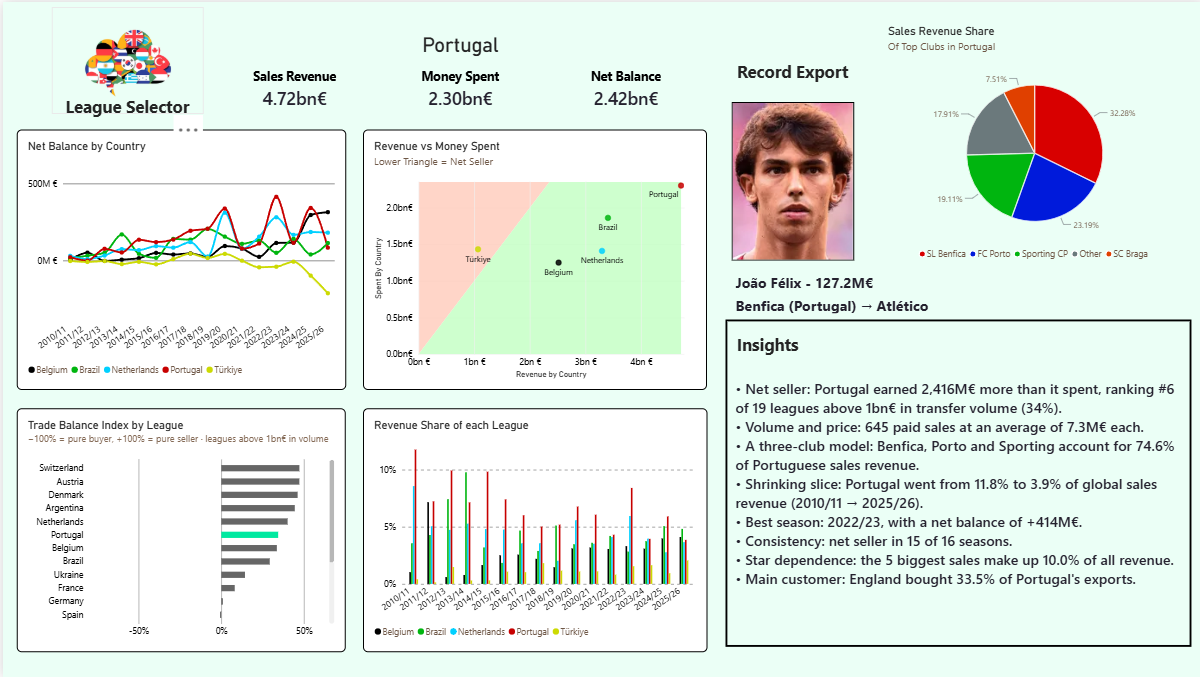

What the dashboard file says about the page in this screenshot:
{"tool":"powerbi","page":{"name":"Leagues","canvas":[1920,1080],"ordinal":0},"visuals":[{"type":"cardVisual","fields":{"Data":["_Measures.Card Revenue","_Measures.Card Spend","_Measures.Card Net Balance"]},"box":[338,50,788,126],"z":0},{"type":"lineChart","title":"Net Balance by Country","fields":{"Category":["Dates.Season"],"Series":["Countries.Country"],"Y":["_Measures.Net Balance by Country"]},"box":[21.4,204.3,527.1,417.1],"z":1000},{"type":"scatterChart","title":"Revenue vs Money Spent","fields":{"Category":["Countries.Country"],"Series":["Countries.Country"],"X":["_Measures.Revenue by Country"],"Y":["_Measures.Spend by Country"]},"box":[575.7,204.3,550,417.1],"z":2000},{"type":"clusteredBarChart","title":"Trade Balance Index by League","fields":{"Category":["Countries.Country"],"Y":["_Measures.Trade Balance Index"]},"box":[21.8,650,526.4,390],"z":3000},{"type":"clusteredColumnChart","title":"Revenue Share of each League","fields":{"Category":["Dates.Season"],"Series":["Countries.Country"],"Y":["_Measures.Revenue Share"]},"box":[575.5,650,550.9,390],"z":4000},{"type":"pieChart","title":"Sales Revenue Share","fields":{"Category":["clubs.name (groups)"],"Y":["_Measures.Sales Revenue"]},"box":[1400,22.9,501.4,411.4],"z":5000},{"type":"image","box":[1165.7,159,195.8,253.3],"z":6000},{"type":"cardVisual","fields":{"Data":["_Measures.Top Sale Label","_Measures.Top Sale Route"]},"box":[1155.7,434.3,745.7,65.7],"z":7000},{"type":"textbox","box":[1161.4,92.9,202.9,45.7],"z":8000},{"type":"cardVisual","fields":{"Data":["_Measures.Insights Leagues"]},"box":[1155.5,500.4,745.5,539.8],"z":9000},{"type":"textbox","box":[1174.5,529.6,610,48],"z":10000},{"type":"shape","box":[1156,508,745.5,523.8],"z":11000},{"type":"image","box":[78.6,8.6,244.3,168.6],"z":12000},{"type":"textbox","box":[100,148.6,201.7,48.3],"z":13502}]}

Visuals, with their boxes in screenshot pixels (x1, y1, x2, y2), scaled from the page's 1920x1080 canvas onto the 1200x677 screenshot:
cardVisual - _Measures.Card Revenue x _Measures.Card Spend: box=[211, 31, 704, 110]
"Net Balance by Country" lineChart: box=[13, 128, 343, 390]
"Revenue vs Money Spent" scatterChart: box=[360, 128, 704, 390]
"Trade Balance Index by League" clusteredBarChart: box=[14, 407, 343, 652]
"Revenue Share of each League" clusteredColumnChart: box=[360, 407, 704, 652]
"Sales Revenue Share" pieChart: box=[875, 14, 1188, 272]
image: box=[729, 100, 851, 258]
cardVisual - _Measures.Top Sale Label x _Measures.Top Sale Route: box=[722, 272, 1188, 313]
textbox: box=[726, 58, 853, 87]
cardVisual - _Measures.Insights Leagues: box=[722, 314, 1188, 652]
textbox: box=[734, 332, 1115, 362]
shape: box=[722, 318, 1188, 647]
image: box=[49, 5, 202, 111]
textbox: box=[62, 93, 189, 123]
